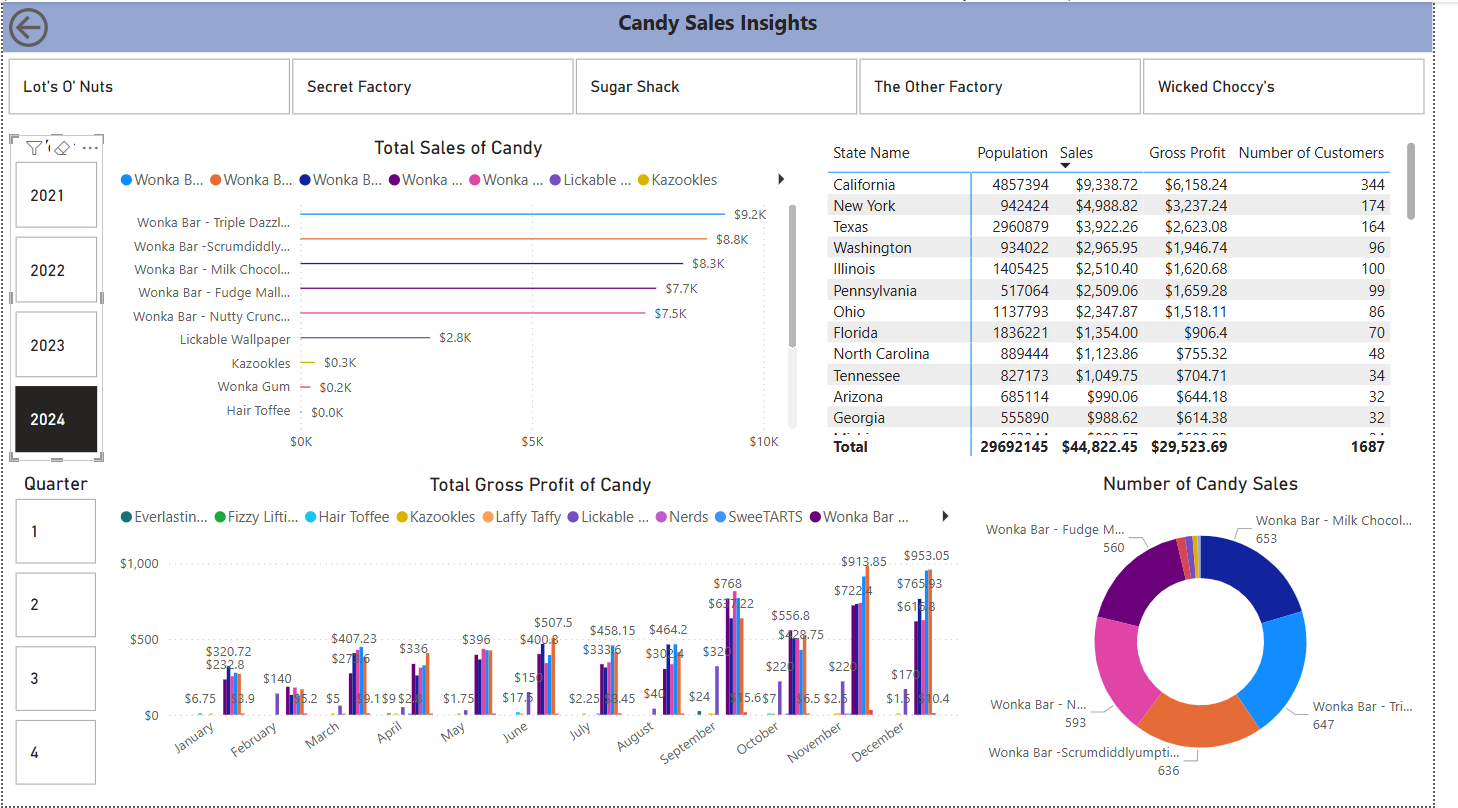

The page's visual inventory and layout, read from the dashboard file:
{"tool":"powerbi","page":{"name":"Candy Sales Insights","canvas":[1280,720],"ordinal":2},"visuals":[{"type":"clusteredBarChart","title":"Total Sales of Candy","fields":{"Y":["Sum(candy_sales.sales)"],"Category":["candy_products.product_name"],"Series":["candy_products.product_name"]},"box":[99.1,119.7,616.6,291.8],"z":0},{"type":"clusteredColumnChart","title":"Total Gross Profit of Candy","fields":{"Y":["Sum(candy_sales.gross_profit)"],"Series":["candy_products.product_name"],"Category":["date_details.monthname"]},"box":[99.4,421.8,763.9,284.8],"z":1000},{"type":"donutChart","title":"Number of Candy Sales","fields":{"Y":["CountNonNull(candy_sales.sales)"],"Category":["candy_products.product_name"]},"box":[875.4,421.2,395,284.9],"z":2000},{"type":"advancedSlicerVisual","title":"Quarter","fields":{"Values":["date_details.quarter"]},"box":[6.3,420.9,82.4,285.7],"z":3000},{"type":"advancedSlicerVisual","title":"Year","fields":{"Values":["date_details.year"]},"box":[6.3,119.1,83.3,291.9],"z":4000},{"type":"textbox","box":[0,0,1280,45.4],"z":5000},{"type":"advancedSlicerVisual","title":"Factory","fields":{"Values":["candy_factories.factory"]},"box":[0,45.3,1280.2,60.5],"z":6000},{"type":"actionButton","box":[0,0,61.8,45.7],"z":7000},{"type":"pivotTable","title":"Total Sales of Candy","fields":{"Rows":["location_details.state_name"],"Values":["Sum(location_details.population)","Sum(candy_sales.sales)","Sum(candy_sales.gross_profit)","Count(candy_sales.customer_id)"]},"box":[733.6,119.7,536.8,291.8],"z":8000}]}

Visuals, with their boxes in screenshot pixels (x1, y1, x2, y2), scaled from the page's 1280x720 canvas onto the 1458x808 screenshot:
"Total Sales of Candy" clusteredBarChart: box(113, 134, 815, 462)
"Total Gross Profit of Candy" clusteredColumnChart: box(113, 473, 983, 793)
"Number of Candy Sales" donutChart: box(997, 473, 1447, 792)
"Quarter" advancedSlicerVisual: box(7, 472, 101, 793)
"Year" advancedSlicerVisual: box(7, 134, 102, 461)
textbox: box(0, 0, 1457, 51)
"Factory" advancedSlicerVisual: box(0, 51, 1457, 119)
actionButton: box(0, 0, 70, 51)
"Total Sales of Candy" pivotTable: box(836, 134, 1447, 462)
